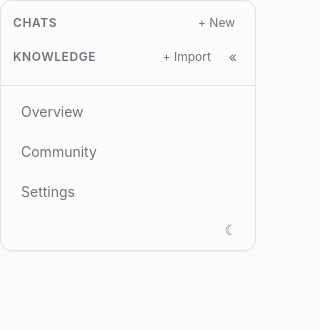
Test: Import Flow › polls ingest status and shows completion
This screenshot has width=320, height=330.
Click the button with test id "import-button" at [187, 57], box [155,47,219,67]
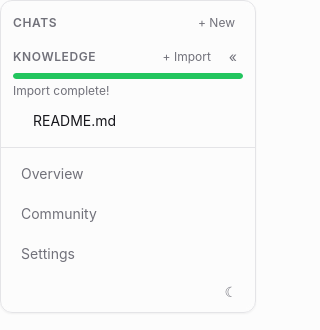
Now the text with test id "import-status-text" reads "Import complete!", box [13,83,109,98]
